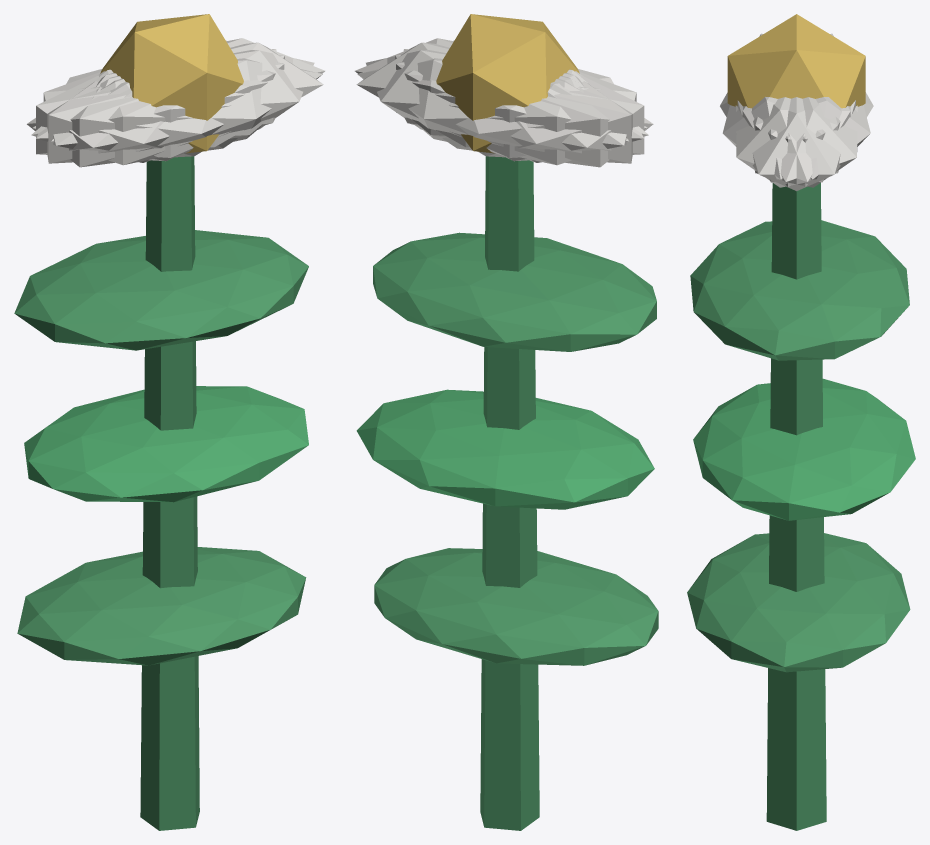
The model's file is corchorus-aestuans.glb.
The picture shows the model from 3 angles, left to right: view 1: azimuth 30°, elevation 25°; view 2: azimuth 150°, elevation 25°; view 3: azimuth 270°, elevation 25°; orthographic projection.
Parts seen in each view (by area): view 1: stem, leaf2, leaf0, leaf1, center, petal1, petal6, petal2, petal5, petal7, petal0, petal4 (+2 smaller); view 2: leaf1, leaf2, leaf0, stem, center, petal8, petal3, petal7, petal4, petal2, petal0, petal5 (+2 smaller); view 3: leaf2, stem, leaf1, leaf0, center, petal0, petal5, petal4, petal8, petal1.
Part boxes in pixels (x1=…): stem: x1=140, y1=156, x2=199, y2=830; leaf2: x1=14, y1=230, x2=308, y2=350; leaf0: x1=17, y1=547, x2=306, y2=665; leaf1: x1=24, y1=386, x2=308, y2=502; center: x1=100, y1=14, x2=243, y2=153; petal1: x1=31, y1=58, x2=322, y2=165; petal6: x1=27, y1=71, x2=237, y2=167; petal2: x1=47, y1=49, x2=276, y2=163; petal5: x1=51, y1=50, x2=314, y2=157; petal7: x1=36, y1=55, x2=284, y2=161; petal0: x1=100, y1=42, x2=323, y2=147; petal4: x1=33, y1=38, x2=325, y2=138; leaf1: x1=356, y1=389, x2=654, y2=509; leaf2: x1=373, y1=232, x2=656, y2=351; leaf0: x1=374, y1=548, x2=658, y2=665; stem: x1=480, y1=156, x2=539, y2=830; center: x1=436, y1=14, x2=579, y2=153; petal8: x1=357, y1=58, x2=648, y2=165; petal3: x1=442, y1=71, x2=653, y2=167; petal7: x1=403, y1=49, x2=632, y2=163; petal4: x1=366, y1=50, x2=628, y2=157; petal2: x1=395, y1=55, x2=644, y2=161; petal0: x1=356, y1=42, x2=579, y2=147; petal5: x1=355, y1=38, x2=647, y2=138; leaf2: x1=690, y1=220, x2=909, y2=360; stem: x1=766, y1=183, x2=826, y2=830; leaf1: x1=693, y1=378, x2=915, y2=520; leaf0: x1=687, y1=533, x2=910, y2=672; center: x1=727, y1=14, x2=865, y2=108; petal0: x1=737, y1=97, x2=855, y2=191; petal5: x1=735, y1=97, x2=850, y2=187; petal4: x1=742, y1=97, x2=857, y2=187; petal8: x1=753, y1=97, x2=870, y2=179; petal1: x1=722, y1=97, x2=840, y2=179.
Bounding box in the file's own units: 0.1491 × 0.3849 × 0.1016.
